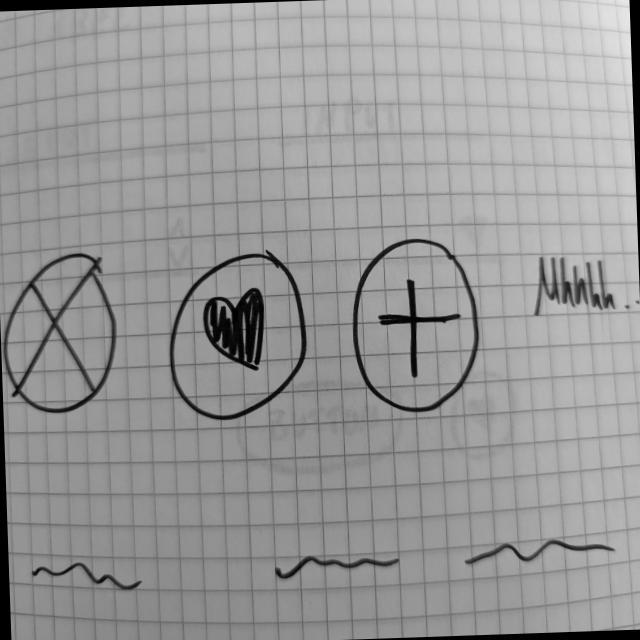icon-button: (162, 246, 312, 424), (346, 232, 486, 418)
image: (0, 248, 122, 418)
label: (528, 249, 640, 321)
text: (458, 530, 618, 569), (26, 552, 149, 600), (274, 548, 403, 583)
